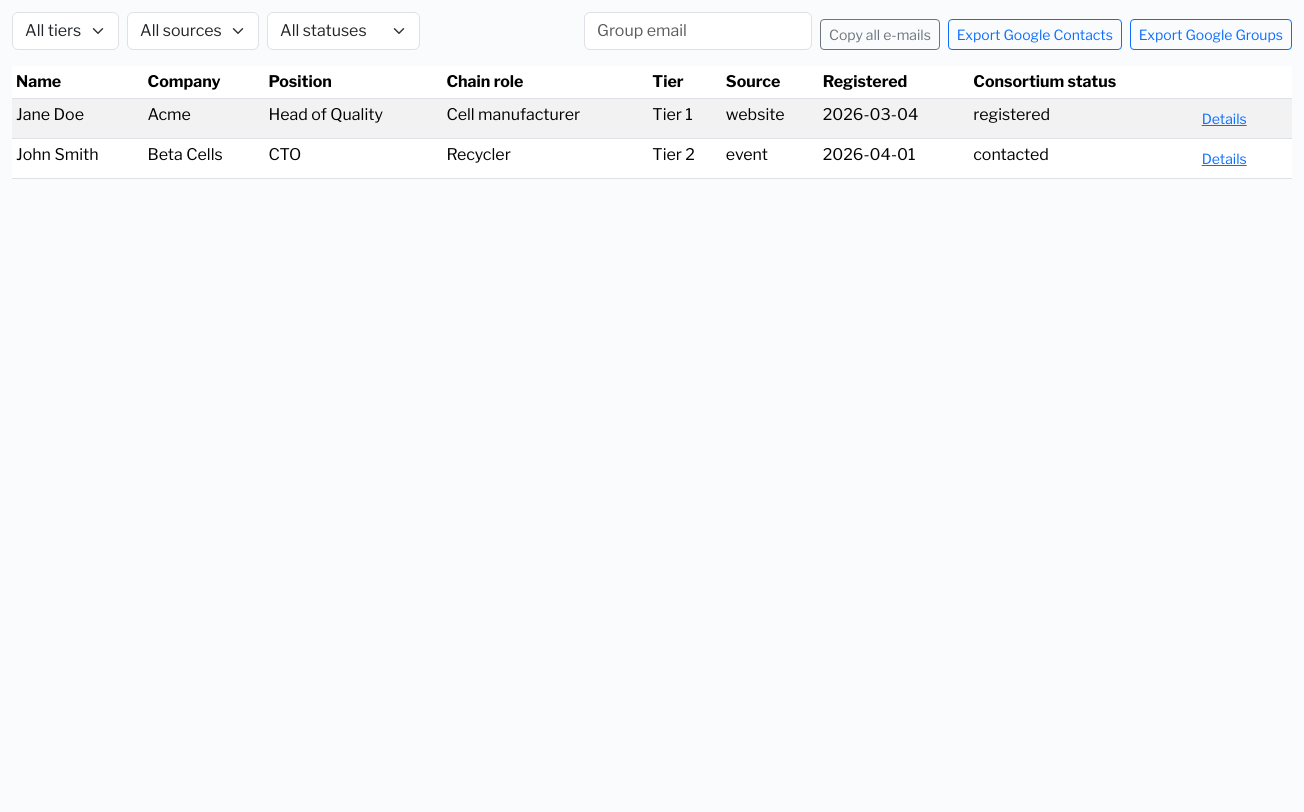
Test: ConsortiumRegistrations › shows the region in the detail card
The width and height of the screenshot is (1304, 812).
Click the button "Details" in the row of "Jane Doe".
click(1224, 118)  # box [1193,103,1256,134]
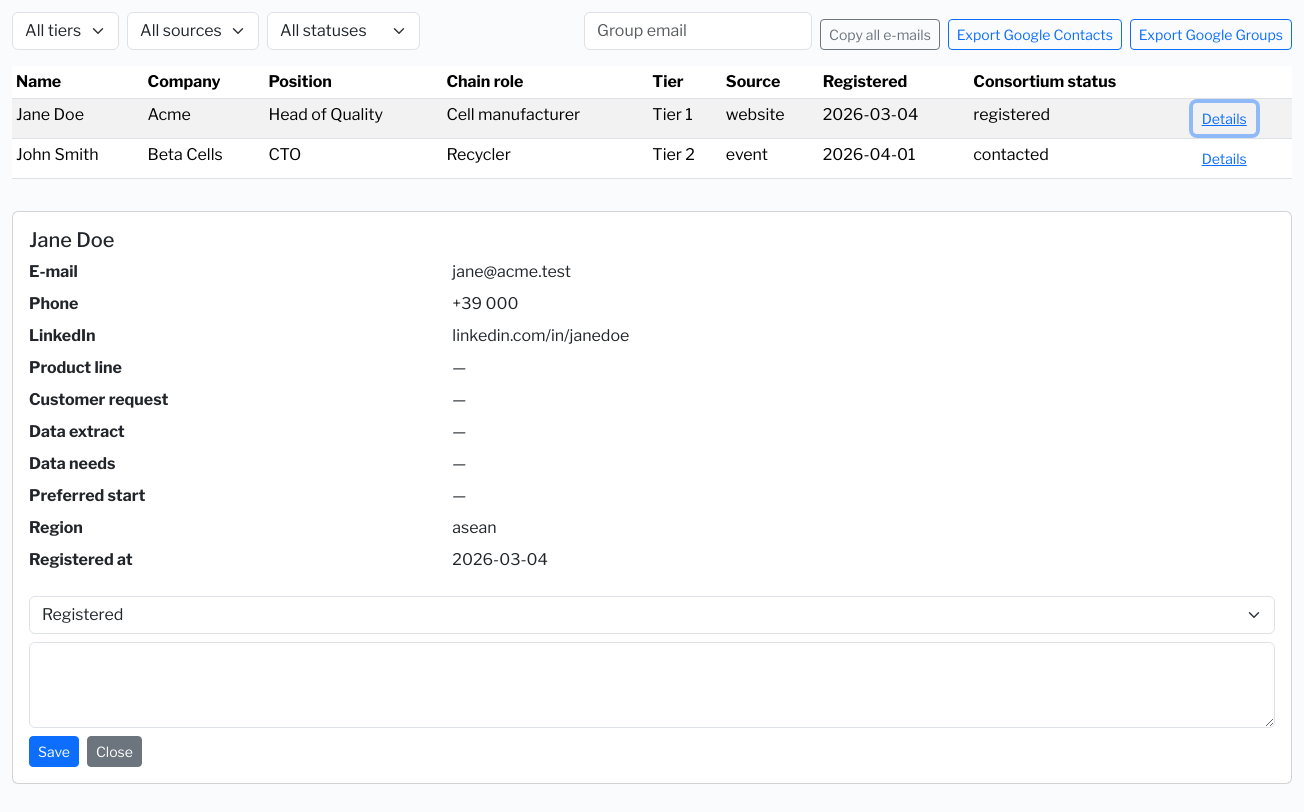
Now the text "asean" is shown, box [452,518,497,537]
